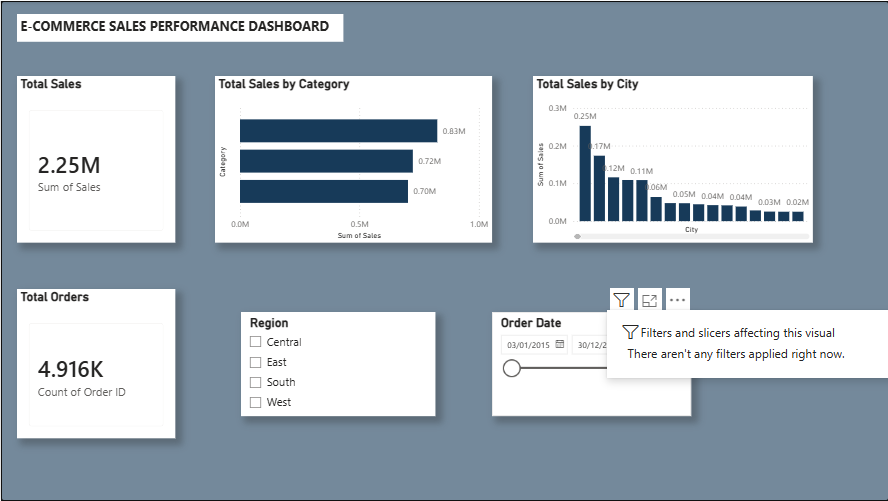

The page's visual inventory and layout, read from the dashboard file:
{"tool":"powerbi","page":{"name":"Page 1","canvas":[1280,720],"ordinal":0},"visuals":[{"type":"cardVisual","title":"Total Sales","fields":{"Data":["Sum(ecommerce_db ventas_raw.Sales)"]},"box":[23,108,228,240],"z":0},{"type":"cardVisual","title":"Total Orders","fields":{"Data":["Count(ecommerce_db ventas_raw.Order ID)"]},"box":[23,415,228,215],"z":1000},{"type":"clusteredBarChart","title":"Total Sales by Category","fields":{"Category":["ecommerce_db ventas_raw.Category"],"Y":["Sum(ecommerce_db ventas_raw.Sales)"]},"box":[308,108,399,240],"z":2000},{"type":"clusteredColumnChart","title":"Total Sales by City","fields":{"Category":["ecommerce_db ventas_raw.City"],"Y":["Sum(ecommerce_db ventas_raw.Sales)"]},"box":[766,108,403,240],"z":3000},{"type":"slicer","fields":{"Values":["ecommerce_db ventas_raw.Region"]},"box":[346,448,280,150],"z":4000},{"type":"slicer","fields":{"Values":["ecommerce_db ventas_raw.Order Date"]},"box":[707,448,287,150],"z":5000},{"type":"textbox","box":[23,18,470,40],"z":6000}]}

Visuals, with their boxes in screenshot pixels (x1, y1, x2, y2), scaled from the page's 1280x720 canvas onto the 888x501 screenshot:
"Total Sales" cardVisual: left=16, top=75, right=174, bottom=242
"Total Orders" cardVisual: left=16, top=289, right=174, bottom=438
"Total Sales by Category" clusteredBarChart: left=214, top=75, right=490, bottom=242
"Total Sales by City" clusteredColumnChart: left=531, top=75, right=811, bottom=242
slicer - ecommerce_db ventas_raw.Region: left=240, top=312, right=434, bottom=416
slicer - ecommerce_db ventas_raw.Order Date: left=490, top=312, right=690, bottom=416
textbox: left=16, top=13, right=342, bottom=40
